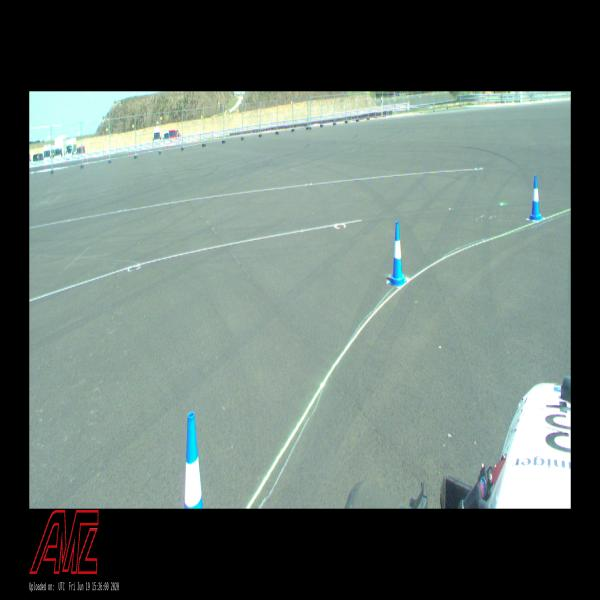blue_cone: (184, 412, 203, 508), (388, 222, 407, 286), (528, 175, 543, 221)
